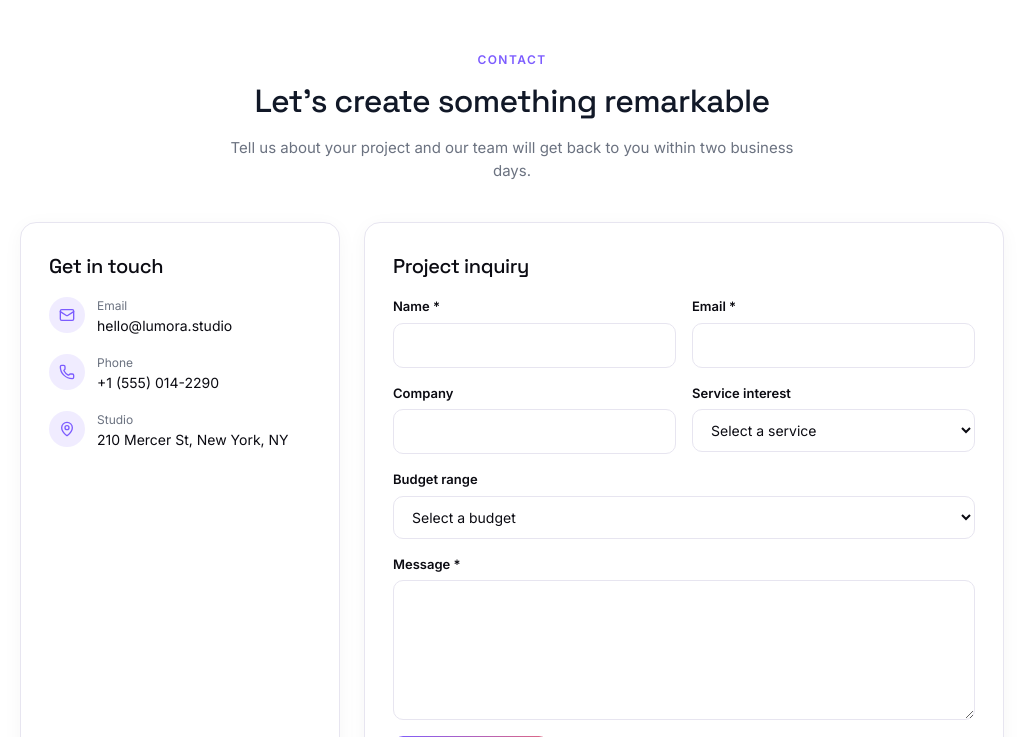
Contact page › shows an error when the API fails
This screenshot has width=1024, height=737.
Type "Ada" into the field labelled "Name *" at coordinates (534, 345), box [393, 322, 676, 368]
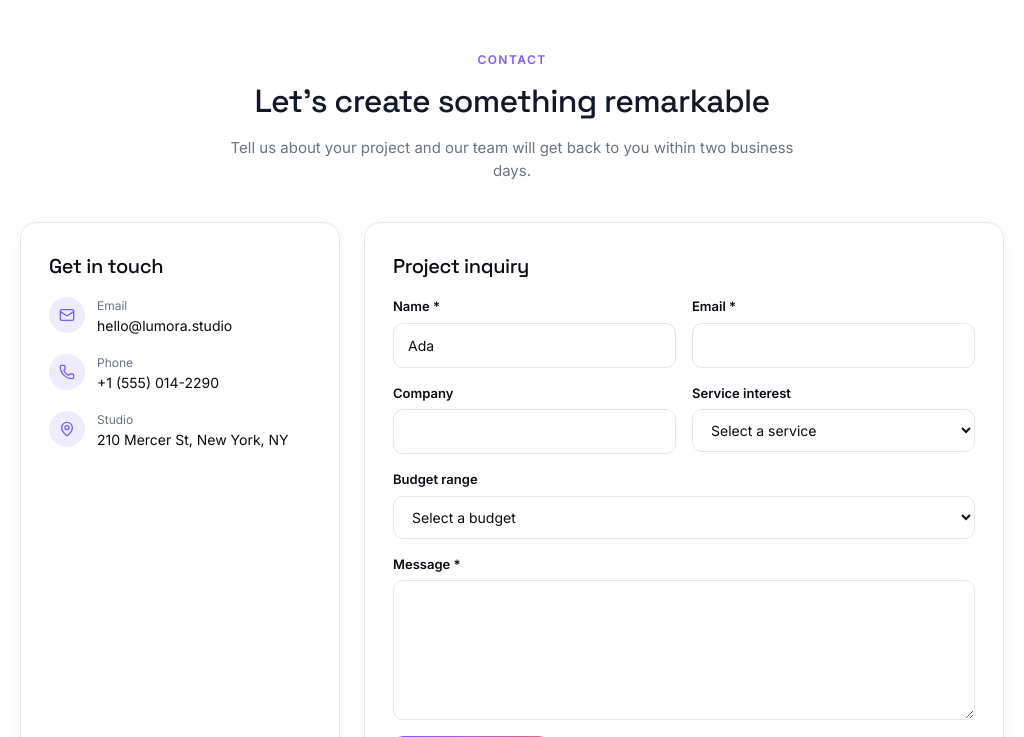
Type "ada@example.com" into the field labelled "Email *" at coordinates (834, 345), box [692, 322, 975, 368]
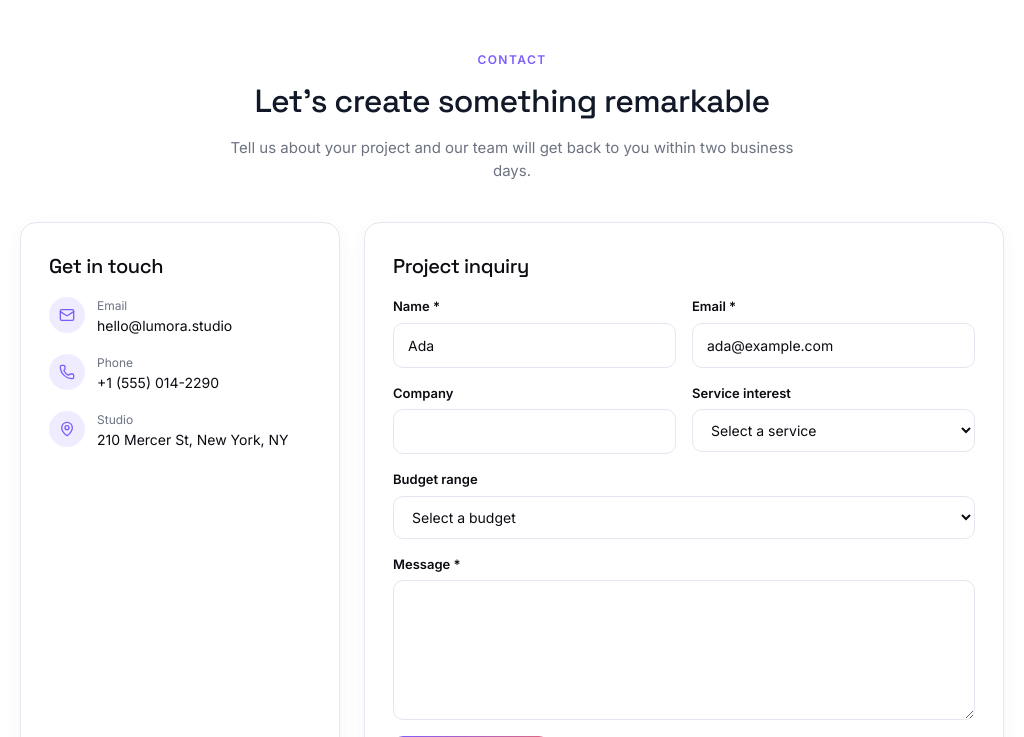
Type "Hi" into the text box labelled "Message *" at coordinates (684, 650), box [393, 580, 975, 720]
(page scrolled)
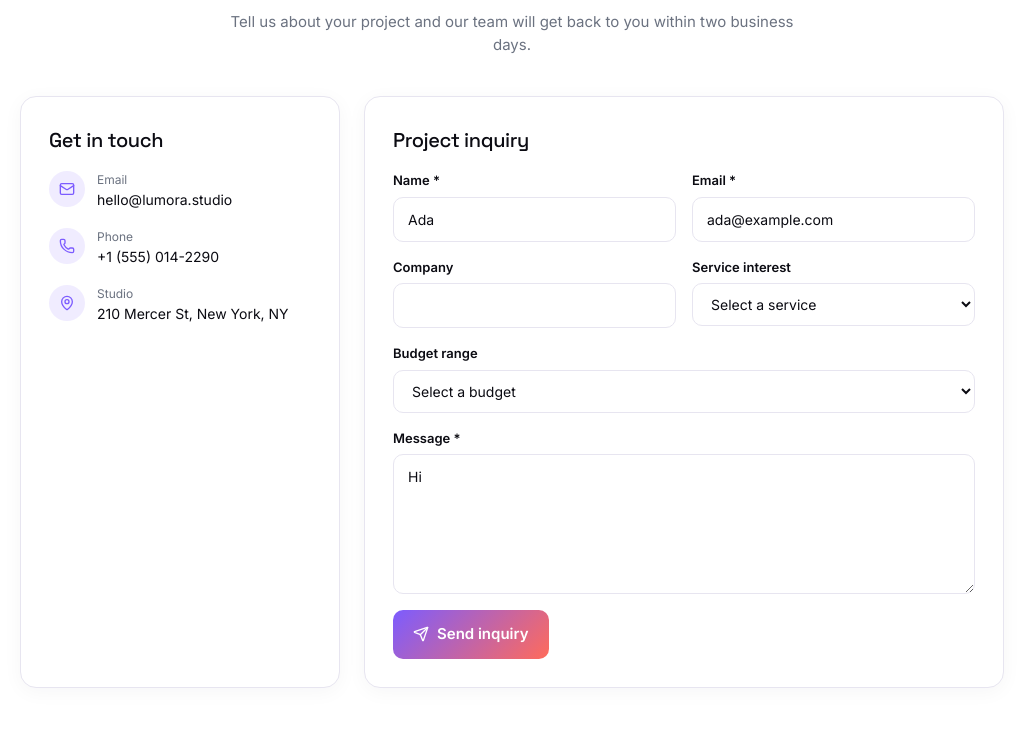
Click the button "Send inquiry" at coordinates (471, 634), box [393, 610, 548, 658]
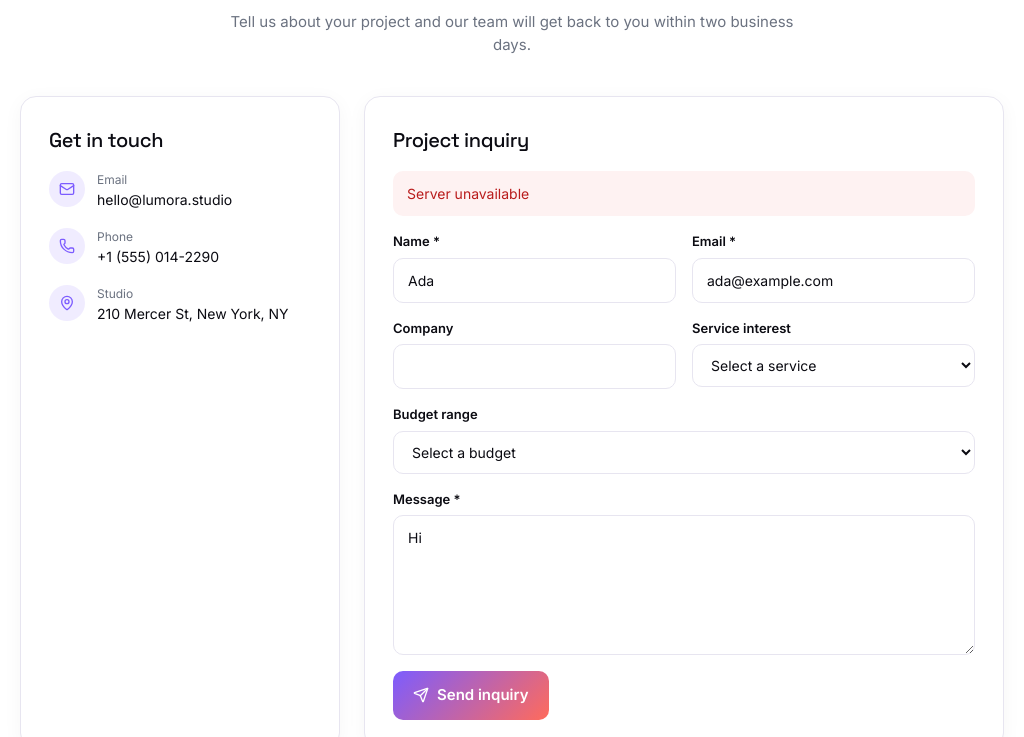
Expected: the message reads "Server unavailable", [407, 185, 529, 202]
